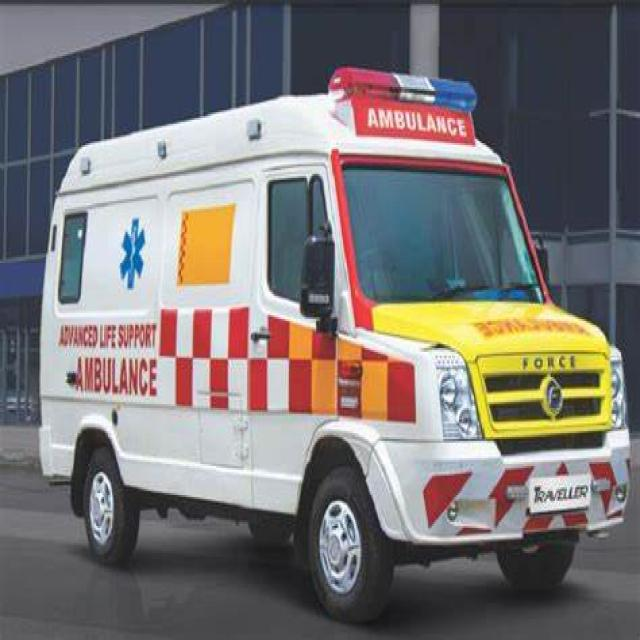ambulance: (312, 60, 481, 117)
